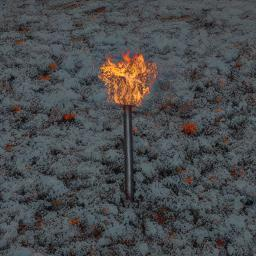Small fire: (99, 51, 161, 108)
